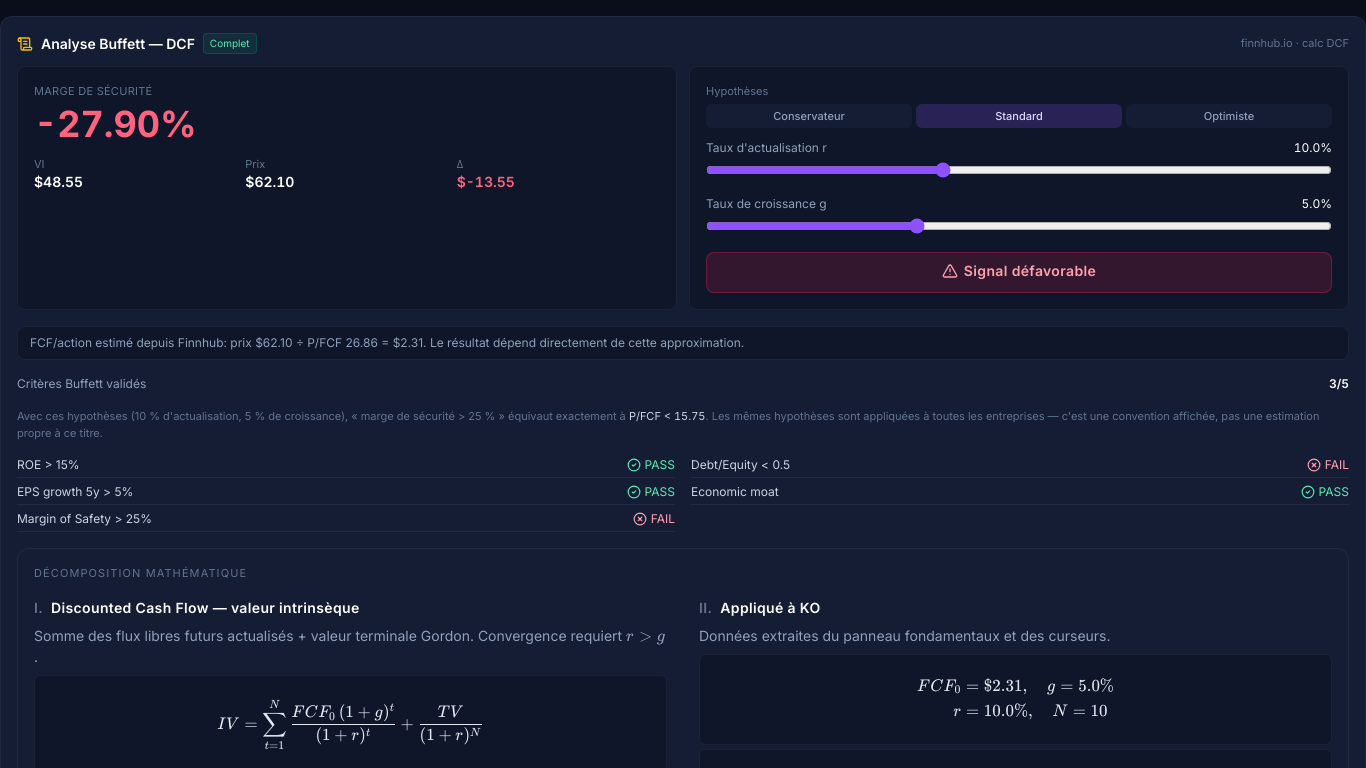
Test case: BuffettAnalysisPanel › offers assumption presets and updates slider values
Expected: the text "Hypothèses" is shown, [706,84,768,98]
Click the button "Conservateur": (809, 116) [706,104,912,128]
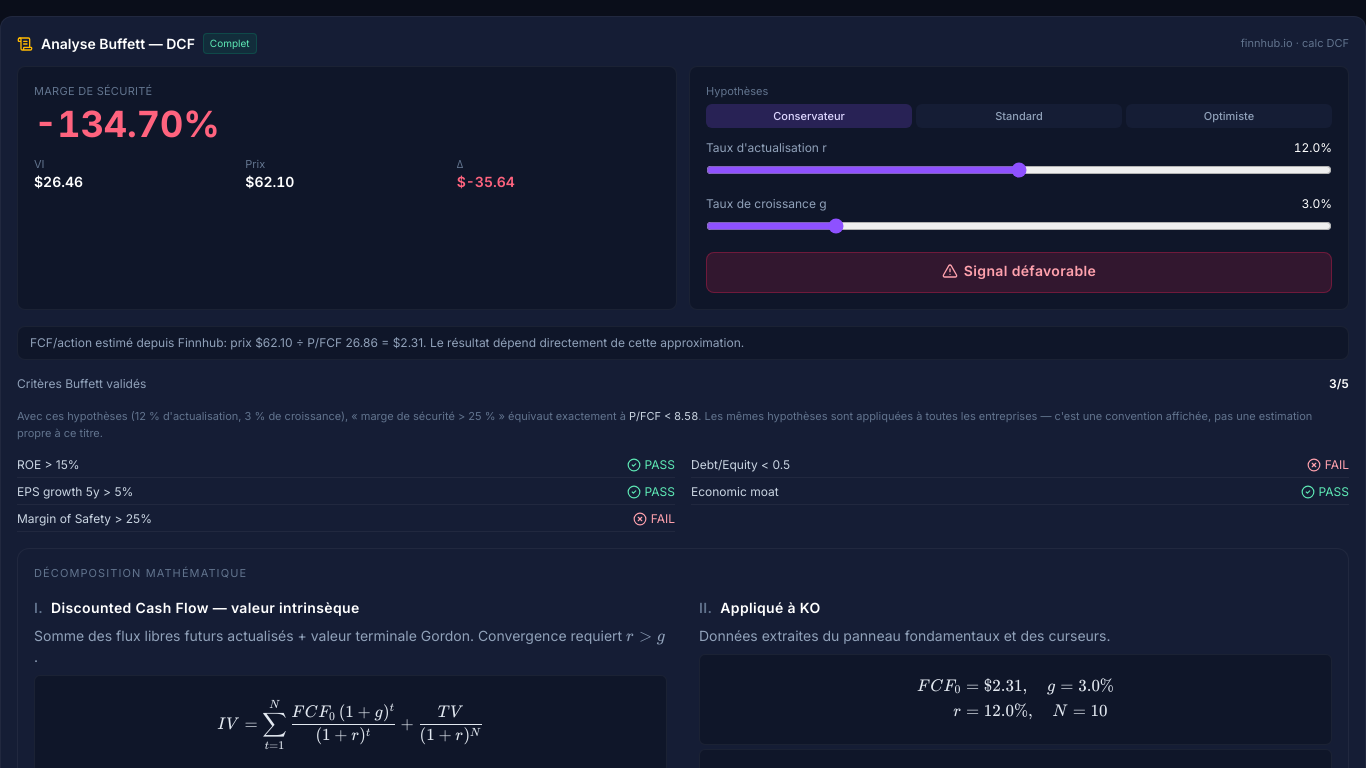
Now the slider named "Taux d'actualisation" holds "0.12", box [706,162,1332,178]
Now the slider named "Taux de croissance" holds "0.03", box [706,218,1332,234]
